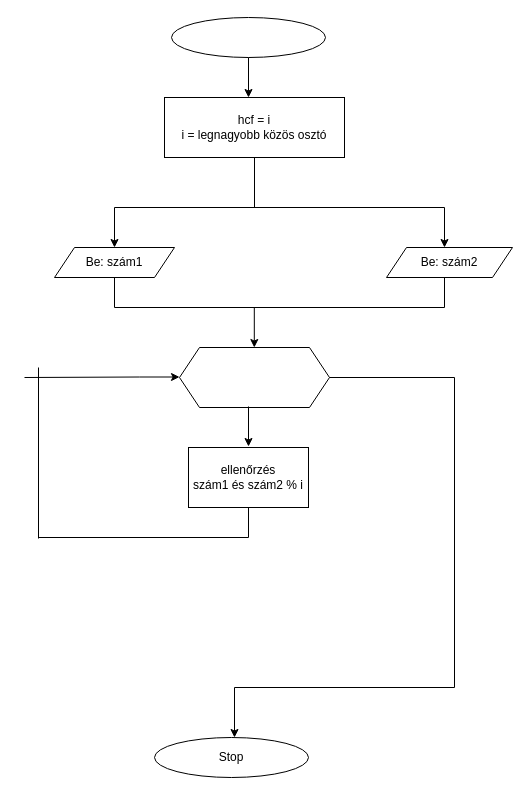
The diagram is 530 pixels wide and 795 high, and some of its shapes have lost their labels. The shapes that lost their labels are listed below. From the top down, each one's box as (x1, y1, x2, y2) in pixels, then its label:
(170, 16, 326, 58): Start
(178, 346, 330, 408): i <= szám1 és szám2
